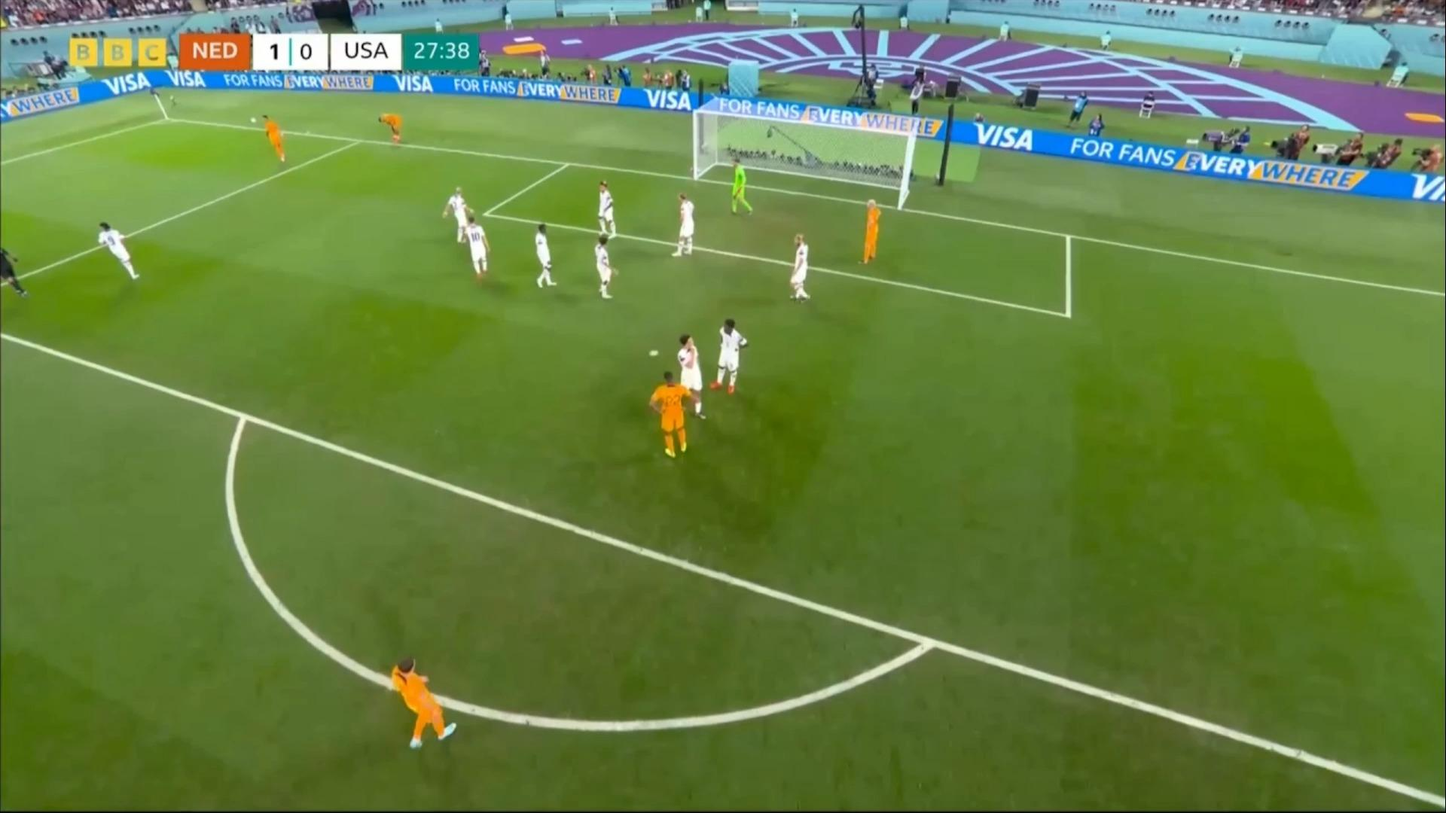Ball: (250, 116, 257, 124)
Player: (386, 657, 453, 757), (646, 370, 691, 463), (710, 315, 750, 399), (95, 219, 141, 281), (676, 332, 708, 419), (853, 195, 889, 272), (783, 235, 818, 307), (530, 223, 560, 296), (589, 237, 620, 305), (459, 216, 489, 286), (442, 185, 475, 245), (592, 181, 622, 240), (670, 193, 696, 256), (730, 157, 753, 217), (261, 113, 287, 165), (375, 109, 403, 151)
Ref: (0, 237, 26, 305)
